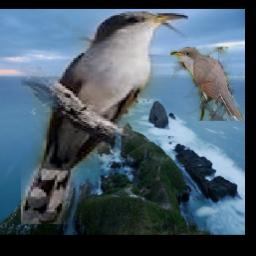Cuckoo: (21, 12, 188, 225), (171, 47, 244, 121)
